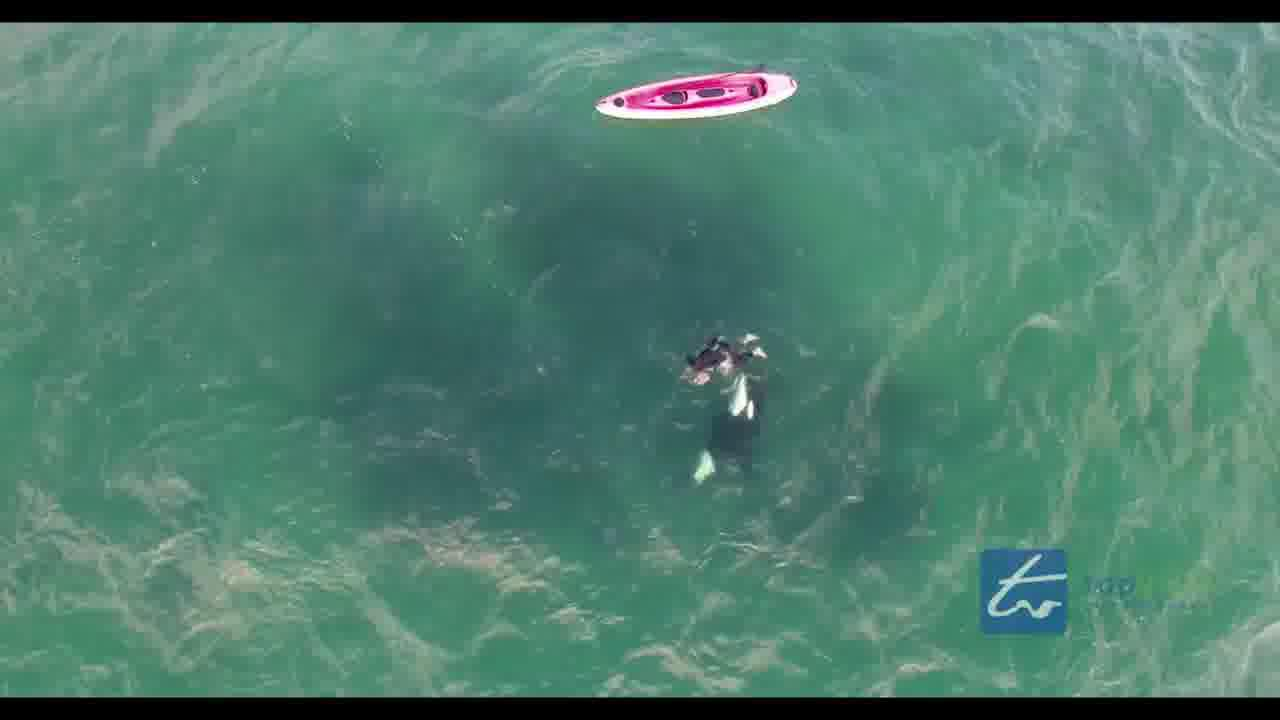swimmer: (672, 339, 765, 366)
